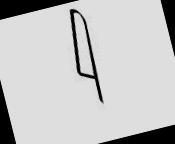Reed: (67, 8, 106, 106)
